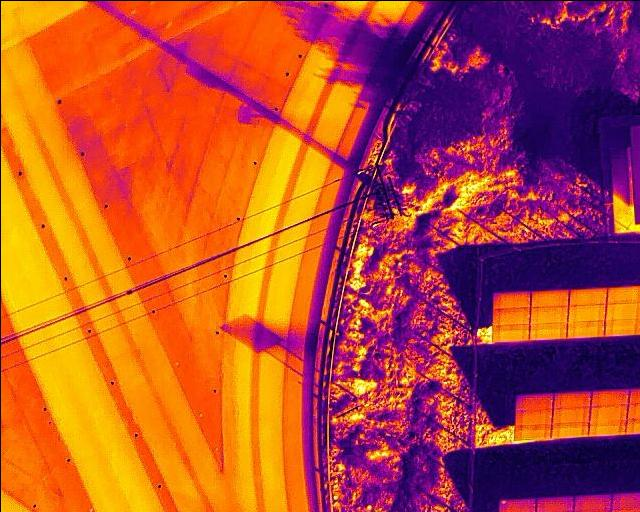Cell: (498, 498, 536, 512)
No-Anomaly: (491, 289, 529, 307), (574, 494, 610, 512), (551, 421, 589, 438), (568, 287, 606, 304), (492, 323, 529, 340), (513, 424, 550, 441), (567, 319, 604, 336), (552, 390, 591, 406), (591, 389, 630, 405), (529, 289, 568, 305), (589, 404, 628, 420), (529, 306, 567, 322), (491, 307, 529, 323), (536, 496, 574, 512), (589, 420, 627, 436), (529, 322, 566, 338), (567, 305, 604, 321), (551, 406, 590, 421), (515, 408, 551, 424), (515, 393, 552, 408), (604, 318, 636, 335), (604, 302, 637, 318), (605, 286, 638, 302), (611, 494, 640, 512)
